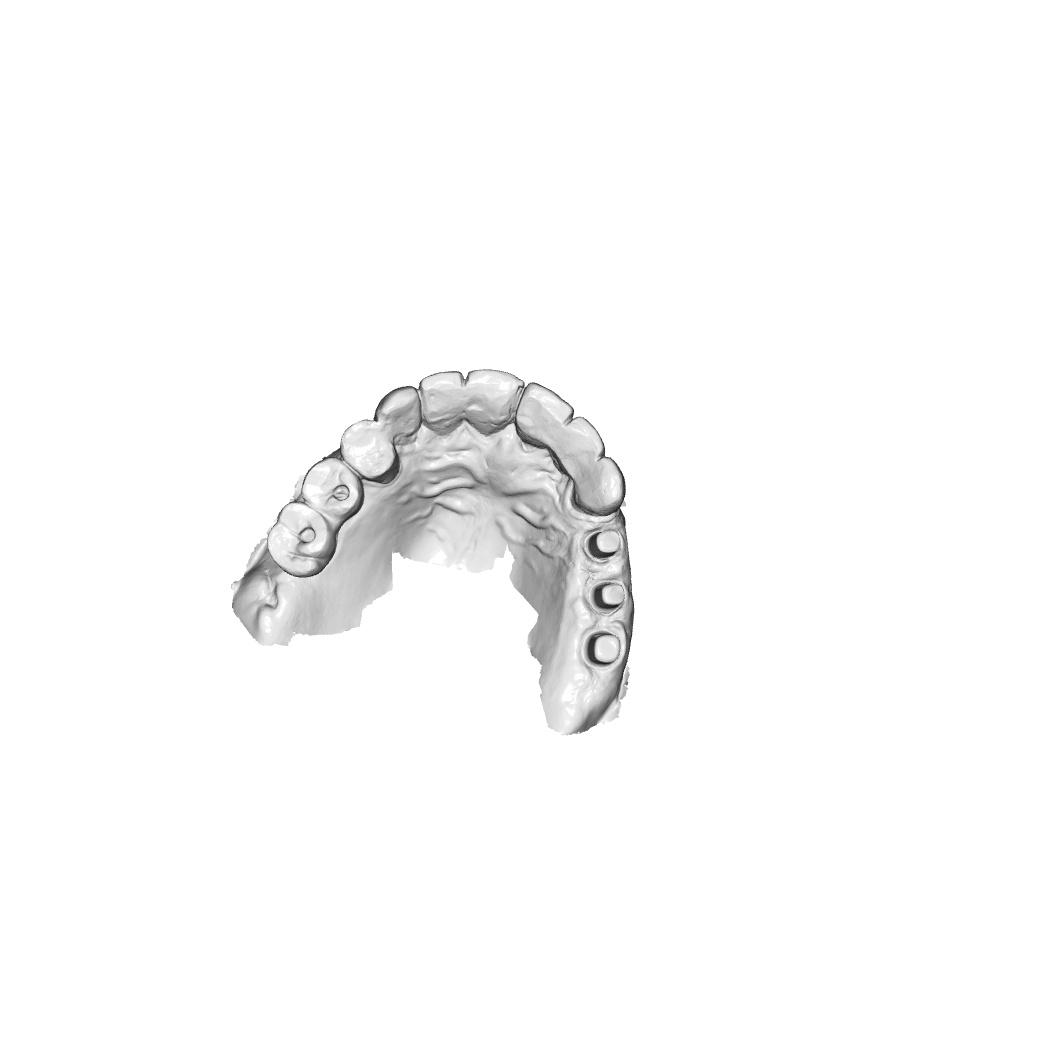abutment: (586, 631, 623, 667), (584, 528, 623, 561), (592, 581, 627, 613)
canine: (570, 455, 627, 517), (373, 384, 423, 441)
incisor: (513, 381, 575, 451), (465, 367, 525, 437), (419, 370, 465, 437), (556, 415, 607, 473)
molar: (266, 500, 338, 579)
premolar: (300, 456, 366, 521), (338, 418, 401, 486)
